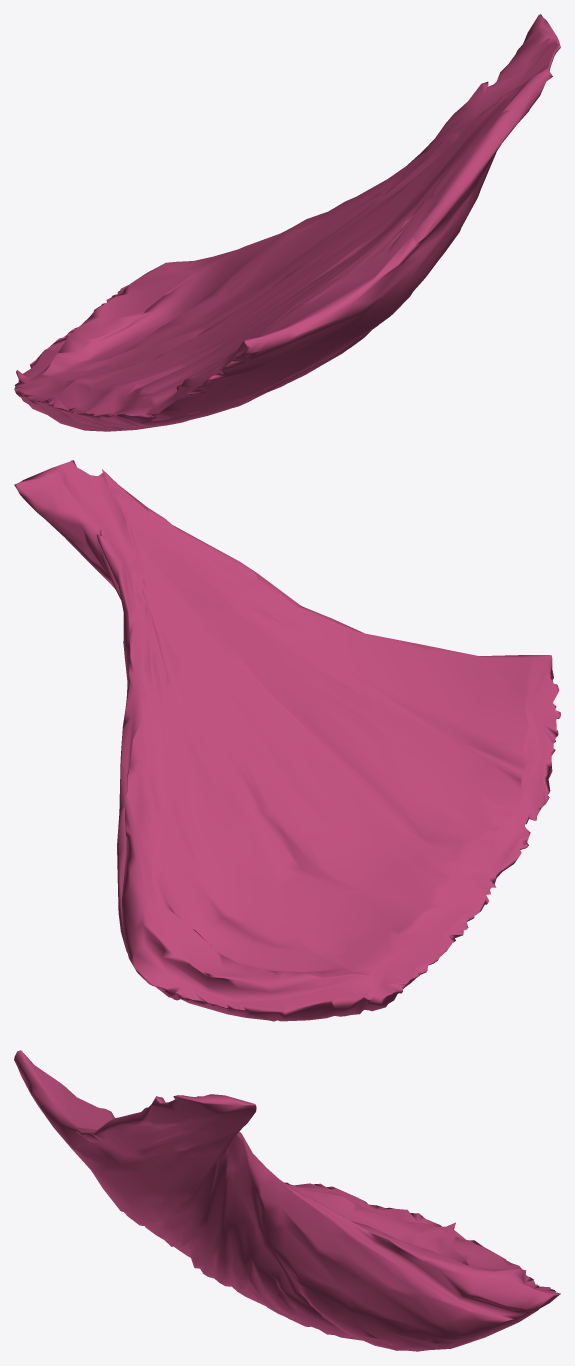
3 views of the same model, one above another, from view 1: azimuth 30°, elevation 25°; view 2: azimuth 150°, elevation 25°; view 3: azimuth 270°, elevation 25° (orthographic). The views are drawn at different scales.
Parts seen in each view (by area): view 1: 左侧胸大肌胸肋部; view 2: 左侧胸大肌胸肋部; view 3: 左侧胸大肌胸肋部.
Part boxes in pixels (x1,y1,x2,y2): 左侧胸大肌胸肋部: (14,14,560,431); 左侧胸大肌胸肋部: (14,460,560,1021); 左侧胸大肌胸肋部: (14,1050,560,1351).
Bounding box in the file's own units: 0.28 × 0.2096 × 0.2684.
